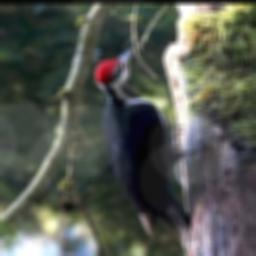Woodpecker: (93, 46, 219, 252)
